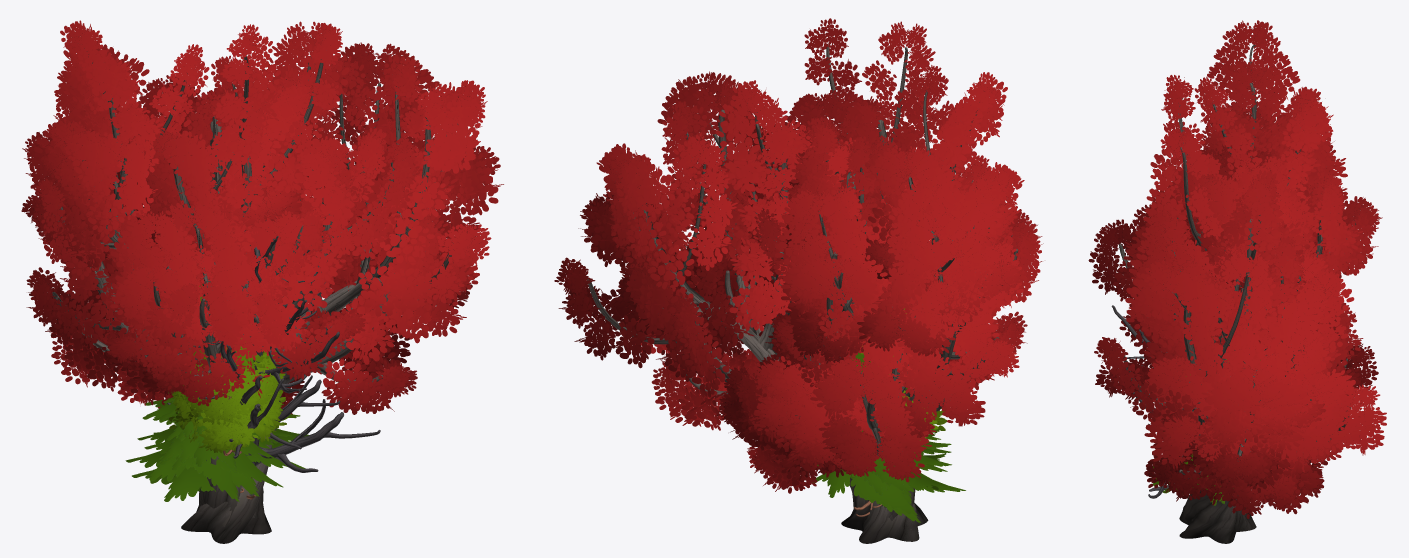
Rendered from nature_trees.glb.
3 views of the same model, side by side, from view 1: azimuth 30°, elevation 25°; view 2: azimuth 150°, elevation 25°; view 3: azimuth 270°, elevation 25° (orthographic). The views are drawn at different scales.
Visible parts, largest first — view 1: TwistedTree_2, TwistedTree_1, TwistedTree_3, DeadTree_2, Pine_2, Pine_5, CommonTree_2, CommonTree_1, CommonTree_3, DeadTree_1, Pine_1; view 2: TwistedTree_1, TwistedTree_2, TwistedTree_3, Pine_5, Pine_2; view 3: TwistedTree_1, TwistedTree_2, TwistedTree_3, DeadTree_2.
Part boxes in pixels (box(x1,y1,x2,y2)): TwistedTree_2: box(21, 20, 342, 526); TwistedTree_1: box(154, 21, 503, 543); TwistedTree_3: box(50, 55, 423, 526); DeadTree_2: box(181, 220, 380, 472); Pine_2: box(132, 412, 292, 501); Pine_5: box(125, 398, 308, 496); CommonTree_2: box(172, 347, 285, 455); CommonTree_1: box(168, 349, 287, 453); CommonTree_3: box(179, 338, 285, 429); DeadTree_1: box(146, 278, 340, 449); Pine_1: box(144, 392, 275, 478); TwistedTree_1: box(554, 71, 928, 543); TwistedTree_2: box(754, 18, 1043, 518); TwistedTree_3: box(716, 89, 1042, 520); Pine_5: box(817, 352, 955, 514); Pine_2: box(812, 422, 965, 522); TwistedTree_1: box(1094, 170, 1386, 543); TwistedTree_2: box(1125, 20, 1349, 530); TwistedTree_3: box(1088, 145, 1382, 509); DeadTree_2: box(1111, 305, 1188, 498).
Bounding box in the file's own units: 17.96 × 19.08 × 11.71.
6 materials, 6 textured.
